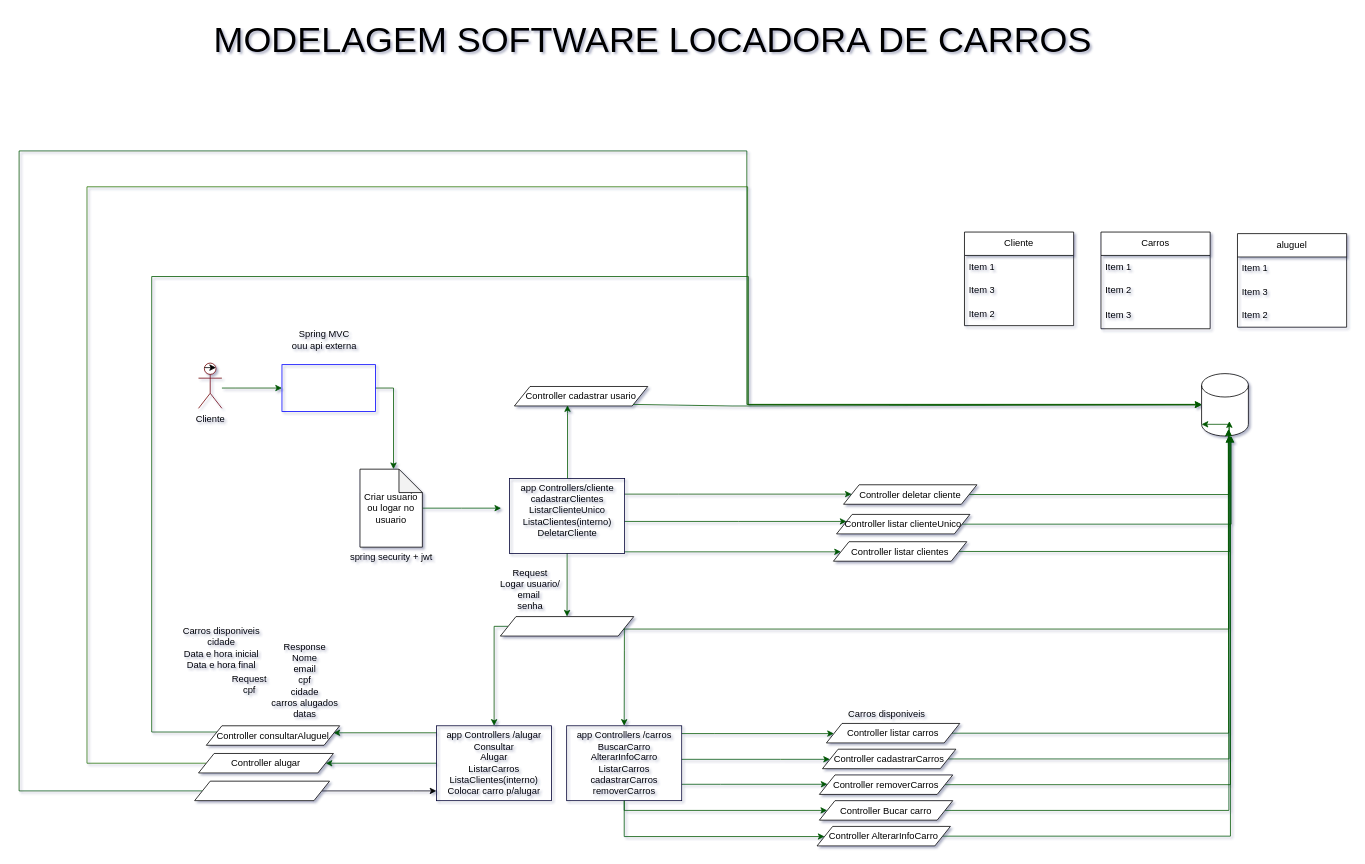
This 1365x864 diagram has some shape labels left out. The box of each missing label's shape, as (x1, y1, x2, y2) in pixels:
Controller Devolver aluguel: (194, 780, 330, 801)
Controller loga usario: (500, 616, 634, 636)
DB: (1201, 373, 1248, 436)
site localiza: (281, 364, 376, 411)
